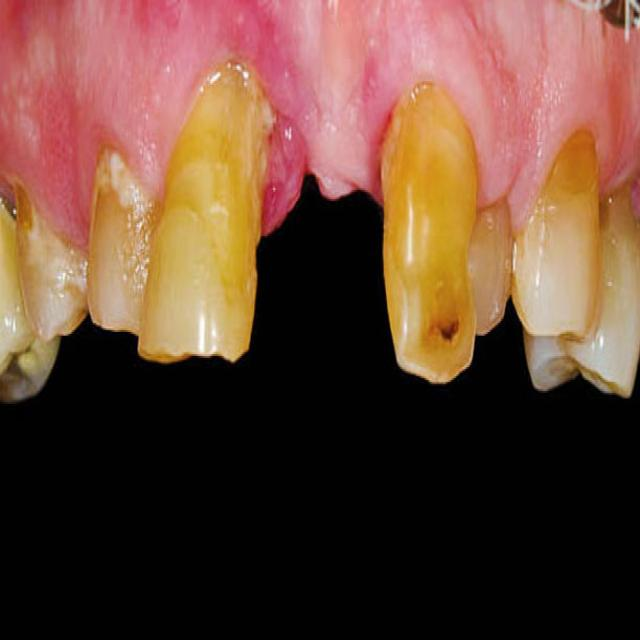caries: (544, 111, 604, 195), (416, 301, 469, 362), (0, 332, 39, 403), (0, 171, 37, 245)
